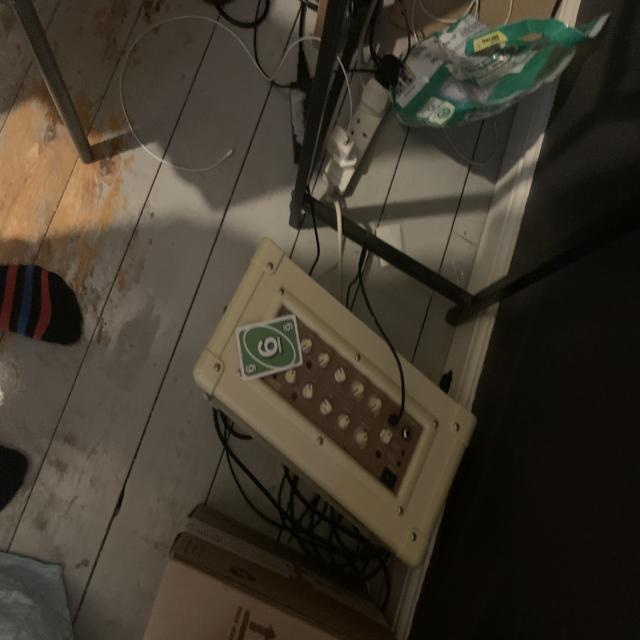lgreen-6: (280, 321, 294, 334)
